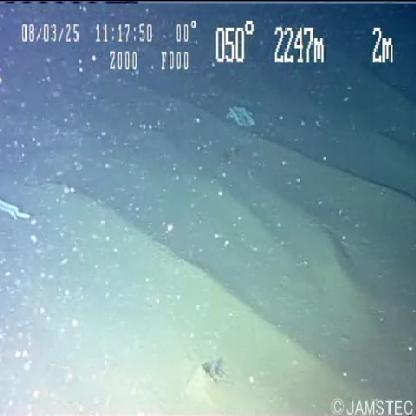Rác: (0, 197, 35, 227)
